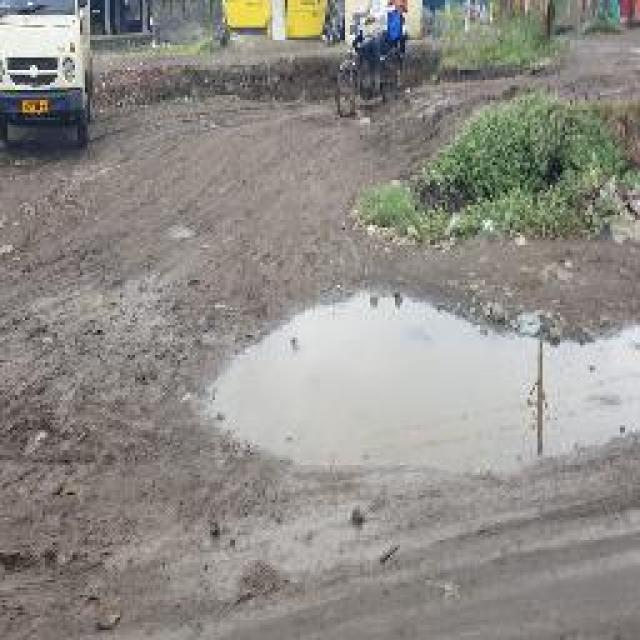stagnation: (198, 283, 640, 481)
